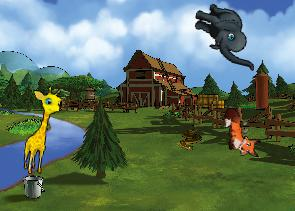elephant: (185, 0, 266, 71)
fox: (222, 105, 262, 160)
giraffe: (21, 84, 64, 177)
